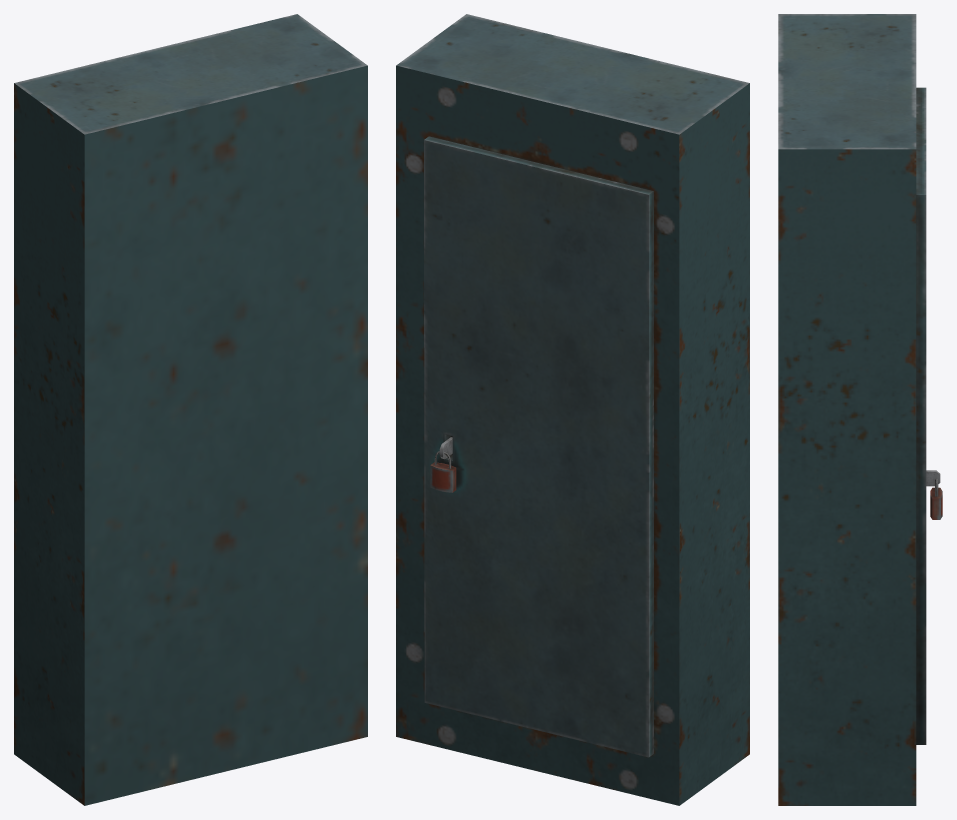
Rendered from Electrical_Box_A.fbx.
The picture shows the model from 3 angles, left to right: view 1: azimuth 30°, elevation 25°; view 2: azimuth 150°, elevation 25°; view 3: azimuth 270°, elevation 25°; orthographic projection. The views are drawn at different scales.
Parts seen in each view (by area): view 1: Electrical_Box_A_LOD0; view 2: Electrical_Box_A_LOD0; view 3: Electrical_Box_A_LOD0.
Boxes of the visible parts, x1,y1,x2,y2 form: Electrical_Box_A_LOD0: (14,14,367,805); Electrical_Box_A_LOD0: (396,14,749,805); Electrical_Box_A_LOD0: (778,14,942,805).
Size of what is drawn, in the model's own units: 50.6 by 115 by 25.94.
